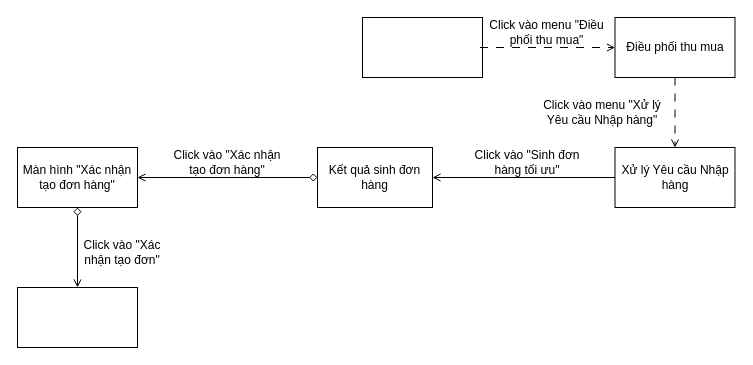
Image size: 753x365. Some labels were removed from this diagram. The centre of each missing label's shape, as x and y in pixels:
Home: (x=422, y=47)
Popup xác nhận đơn hàng thành công: (x=77, y=317)
